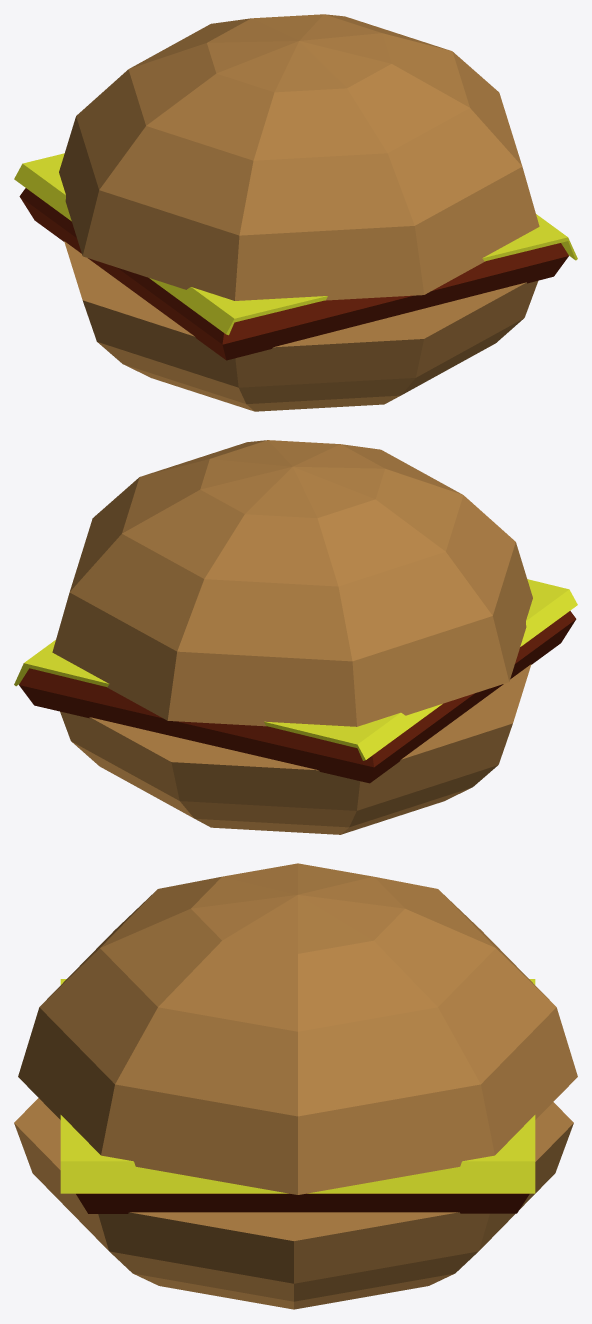
The model's file is Burger.fbx.
3 renders of one model, top to bottom at view 1: azimuth 30°, elevation 25°; view 2: azimuth 150°, elevation 25°; view 3: azimuth 270°, elevation 25°, orthographic. The views are drawn at different scales.
Parts seen in each view (by area): view 1: Сфера.001; view 2: Сфера.001; view 3: Сфера.001.
Boxes of the visible parts, left/top/right/bottom form: Сфера.001: left=14, top=14, right=577, bottom=411; Сфера.001: left=14, top=440, right=577, bottom=834; Сфера.001: left=14, top=863, right=577, bottom=1309.
Bounding box in the file's own units: 179 × 118 × 179.
